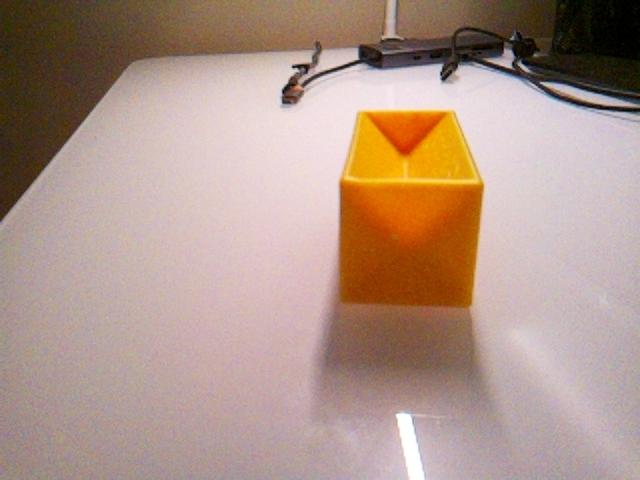yellow: (338, 108, 485, 309)
